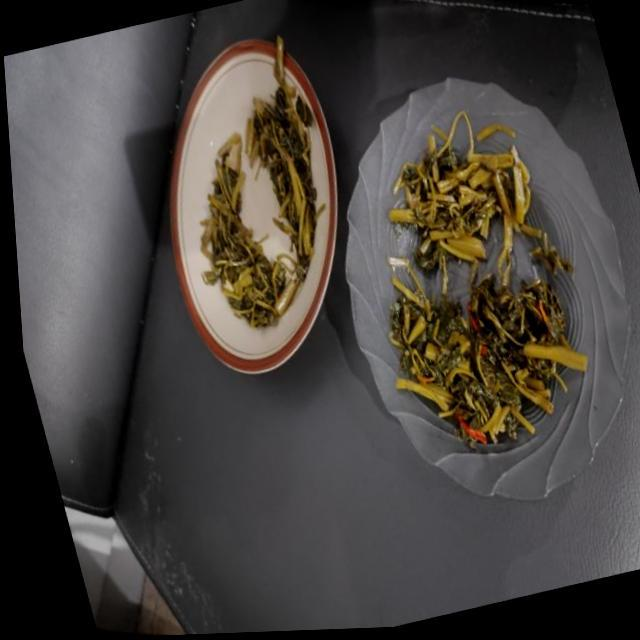tumis_kangkung: (389, 273, 586, 447), (390, 111, 548, 292), (200, 140, 286, 327), (246, 82, 318, 259)
